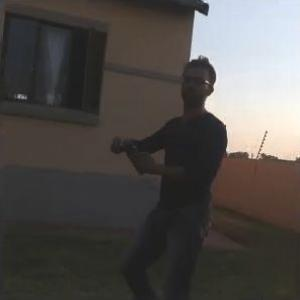follow: (103, 50, 226, 299)
